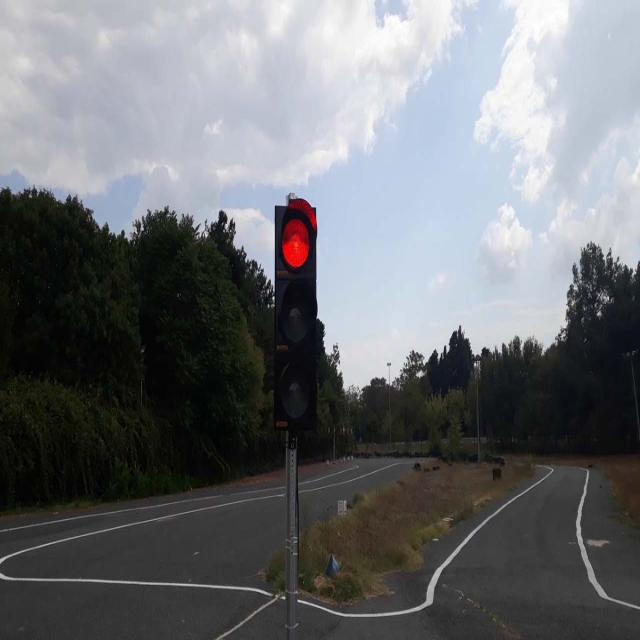kirmizi: (278, 200, 316, 428)
